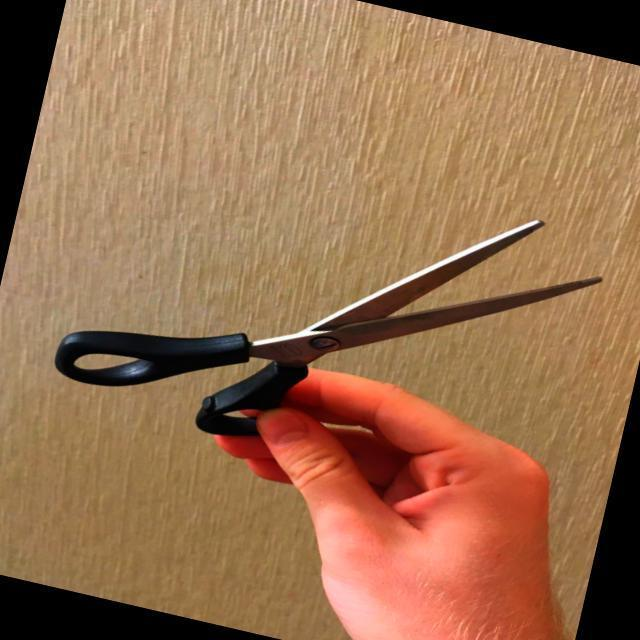scissors: (42, 117, 628, 514)
